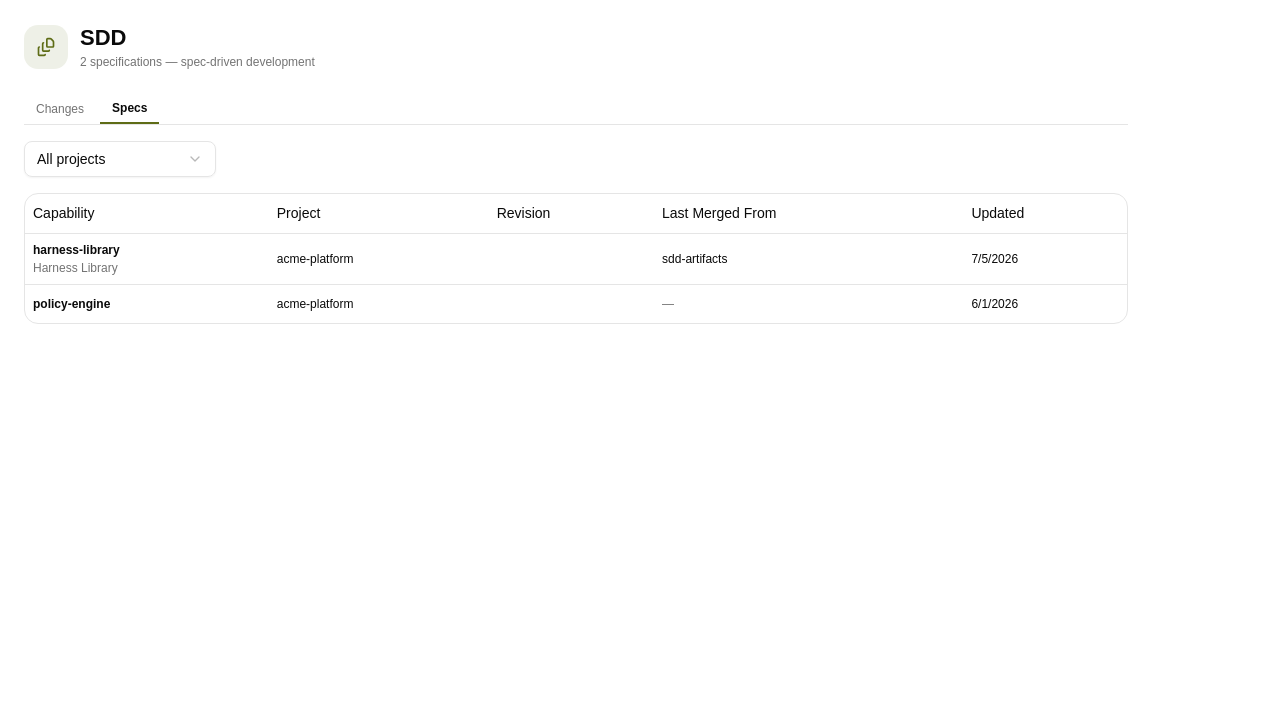
Scenario: Sdd — spec detail drawer › spec_drawer_renders_the_contract_as_markdown_by_default
Click the text "harness-library": (76, 250) [33,243,120,257]
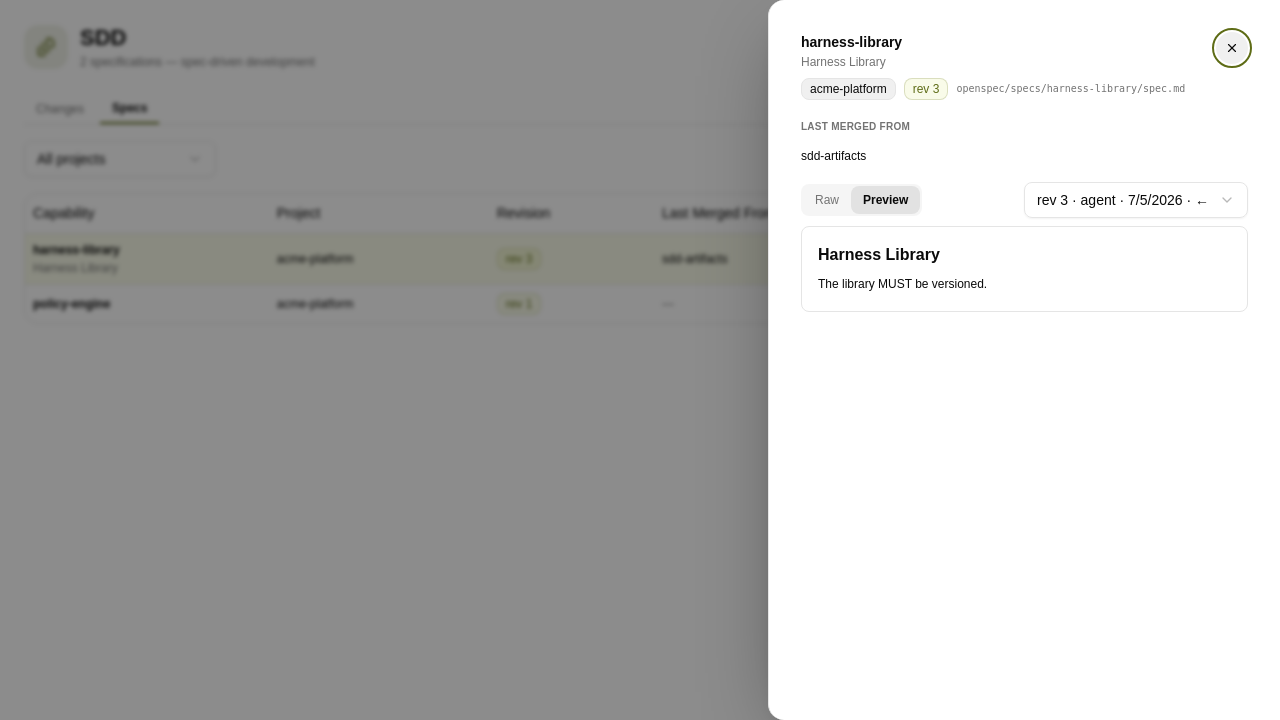
Result: the heading "Harness Library" is shown at [818,246,940,263]
